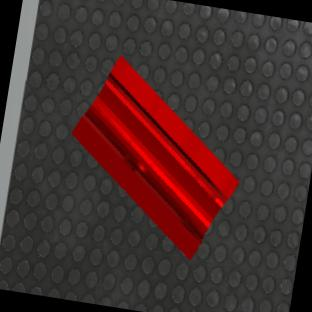objects: (51, 53, 258, 265)
